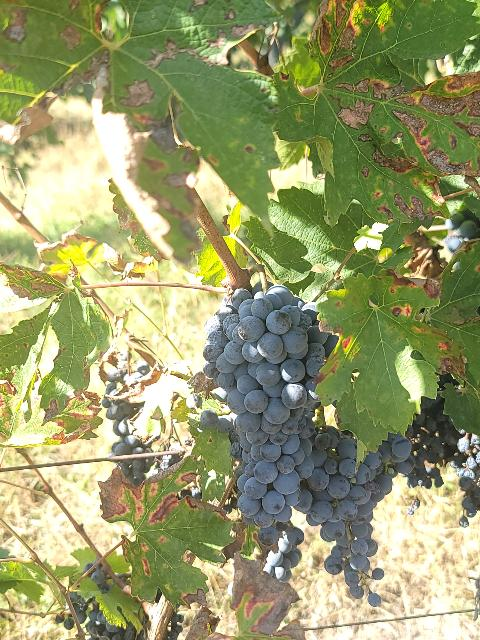grapes: (306, 426, 415, 606), (204, 285, 329, 435), (238, 434, 338, 540)
